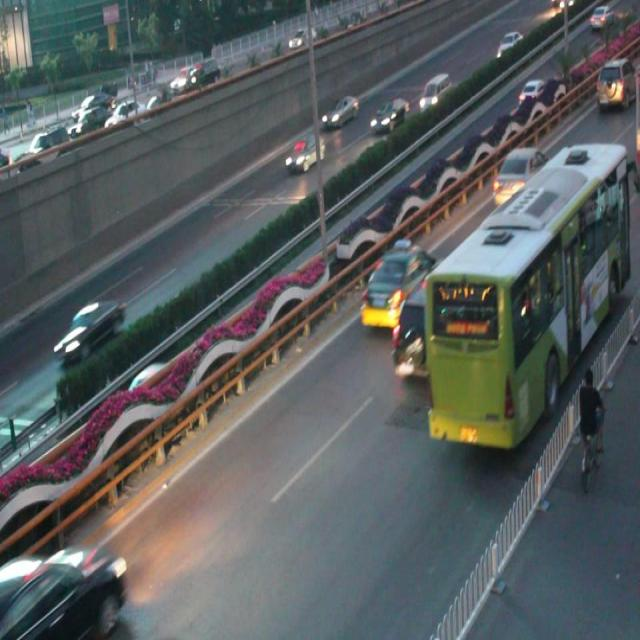car: (0, 539, 128, 640), (385, 278, 480, 387), (359, 243, 432, 326), (53, 294, 125, 363), (490, 146, 545, 210), (286, 131, 326, 172), (369, 95, 408, 136), (516, 80, 552, 120), (320, 95, 358, 130)
truck: (417, 71, 452, 115)
van: (427, 140, 628, 447)
